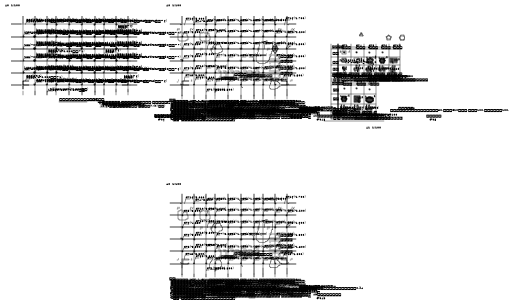room: (319, 253, 341, 278), (319, 61, 341, 86), (259, 31, 274, 42), (262, 71, 276, 82), (247, 277, 260, 288), (217, 277, 230, 288), (262, 264, 276, 274), (337, 33, 350, 43), (247, 85, 260, 95), (217, 85, 230, 95), (337, 226, 350, 235), (336, 45, 350, 50), (336, 52, 350, 57), (336, 65, 350, 70), (336, 58, 350, 63), (336, 238, 350, 242), (336, 245, 350, 249), (336, 251, 350, 255), (336, 258, 350, 262), (319, 44, 324, 52), (319, 237, 324, 245), (309, 237, 314, 245), (302, 237, 307, 245), (292, 237, 297, 245), (286, 237, 291, 245), (302, 44, 307, 52), (292, 44, 297, 52), (286, 44, 291, 52), (309, 44, 314, 52), (270, 238, 274, 245), (276, 238, 280, 245), (276, 45, 280, 52), (270, 45, 274, 52), (227, 198, 229, 200), (423, 238, 425, 240), (227, 6, 229, 8), (423, 197, 425, 198)
staircase: (490, 279, 495, 283)
wall: (336, 45, 350, 50), (336, 52, 350, 57), (336, 58, 350, 63), (336, 65, 350, 70), (336, 238, 350, 242), (336, 245, 350, 249), (336, 251, 350, 255), (336, 258, 350, 262), (351, 37, 360, 43), (223, 37, 231, 43), (15, 230, 24, 235), (351, 230, 360, 235), (144, 230, 152, 235), (223, 230, 231, 235), (319, 237, 324, 245), (309, 237, 314, 245), (302, 237, 307, 245), (292, 237, 297, 245), (286, 237, 291, 245), (319, 44, 324, 52), (309, 44, 314, 52), (302, 44, 307, 52), (292, 44, 297, 52), (286, 44, 291, 52), (270, 238, 274, 245), (276, 238, 280, 245), (270, 45, 274, 52), (276, 45, 280, 52), (222, 210, 234, 212), (462, 211, 467, 214), (467, 211, 472, 214), (435, 212, 438, 216), (238, 243, 240, 249), (238, 231, 240, 237), (238, 256, 240, 262), (238, 282, 240, 288), (238, 269, 240, 275), (255, 282, 257, 288), (238, 51, 240, 57), (238, 38, 240, 44), (238, 64, 240, 70), (222, 18, 234, 19), (462, 215, 467, 217), (467, 215, 472, 217), (328, 243, 330, 248), (316, 269, 318, 274), (328, 90, 330, 95), (238, 90, 240, 95), (238, 77, 240, 82), (316, 90, 318, 95), (225, 42, 227, 47), (353, 42, 355, 47), (255, 90, 257, 95), (485, 256, 488, 259), (480, 254, 483, 257), (480, 256, 483, 259), (435, 215, 438, 218), (430, 213, 433, 216), (430, 215, 433, 218), (342, 231, 344, 235), (223, 256, 225, 260), (328, 283, 330, 287), (316, 231, 318, 235), (328, 231, 330, 235), (316, 283, 318, 287), (223, 243, 225, 247), (225, 235, 227, 239), (353, 235, 355, 239), (492, 282, 496, 284), (316, 295, 318, 299), (328, 295, 330, 299), (359, 282, 361, 286), (223, 282, 225, 286), (359, 243, 361, 247), (342, 38, 344, 42), (328, 51, 330, 55), (316, 38, 318, 42), (328, 38, 330, 42), (316, 77, 318, 81), (485, 254, 487, 257), (47, 256, 49, 259), (254, 243, 255, 249), (344, 243, 345, 249), (357, 295, 358, 301), (454, 284, 456, 287), (457, 284, 459, 287), (494, 279, 496, 282), (489, 282, 492, 284), (512, 278, 514, 281), (512, 281, 514, 284), (506, 281, 508, 284), (506, 278, 508, 281), (254, 51, 255, 57), (223, 64, 225, 67), (223, 51, 225, 54), (226, 102, 227, 108), (357, 102, 358, 108), (316, 103, 318, 106), (328, 103, 330, 106), (359, 90, 361, 93), (223, 90, 225, 93), (359, 51, 361, 54), (266, 256, 267, 261), (283, 256, 284, 261), (283, 269, 284, 274), (300, 256, 301, 261), (300, 269, 301, 274), (344, 256, 345, 261), (315, 256, 316, 261), (266, 269, 267, 274), (226, 295, 227, 300), (330, 269, 331, 274), (256, 269, 257, 274), (254, 38, 255, 43), (283, 77, 284, 82), (283, 90, 284, 95), (300, 77, 301, 82), (300, 90, 301, 95), (344, 51, 345, 56), (344, 64, 345, 69), (266, 77, 267, 82), (330, 77, 331, 82), (256, 77, 257, 82), (224, 269, 225, 273), (254, 231, 255, 235), (254, 295, 255, 299), (283, 243, 284, 247), (283, 283, 284, 287), (300, 243, 301, 247), (300, 283, 301, 287), (316, 243, 317, 247), (343, 295, 344, 299), (283, 231, 284, 235), (300, 231, 301, 235), (266, 243, 267, 247), (266, 295, 267, 299), (283, 295, 284, 299), (300, 295, 301, 299), (266, 283, 267, 287), (359, 269, 360, 273), (359, 256, 360, 260), (266, 64, 267, 68), (283, 51, 284, 55), (283, 64, 284, 68), (300, 51, 301, 55), (300, 64, 301, 68), (344, 77, 345, 81), (316, 51, 317, 55), (315, 64, 316, 68), (266, 38, 267, 42), (283, 38, 284, 42), (300, 38, 301, 42), (266, 51, 267, 55), (282, 89, 284, 91), (282, 76, 284, 78), (282, 63, 284, 65), (282, 50, 284, 52), (344, 90, 345, 94), (266, 90, 267, 94), (266, 231, 267, 235), (344, 269, 345, 273), (152, 269, 153, 272), (489, 279, 490, 282), (344, 283, 345, 286), (254, 261, 255, 264), (224, 77, 225, 80), (254, 103, 255, 106), (343, 103, 344, 106), (266, 103, 267, 106), (283, 103, 284, 106), (300, 103, 301, 106), (359, 77, 360, 80), (359, 64, 360, 67), (254, 69, 255, 72), (30, 295, 32, 296), (30, 282, 32, 283), (30, 269, 32, 270), (30, 256, 32, 257), (30, 243, 32, 244), (46, 243, 48, 244), (108, 282, 110, 283), (108, 269, 110, 270), (108, 256, 110, 257), (108, 243, 110, 244), (15, 282, 17, 283), (120, 295, 122, 296), (30, 230, 32, 231), (120, 230, 122, 231), (108, 230, 110, 231), (108, 295, 110, 296), (15, 243, 17, 244), (120, 243, 122, 244), (120, 282, 122, 283), (282, 282, 284, 283), (282, 269, 284, 270), (282, 256, 284, 257), (282, 243, 284, 244), (282, 295, 284, 296), (282, 230, 284, 231), (15, 256, 17, 257), (15, 269, 17, 270), (238, 89, 239, 91), (238, 76, 239, 78), (238, 63, 239, 65), (238, 50, 239, 52), (254, 89, 255, 91), (254, 50, 255, 52), (266, 89, 267, 91), (266, 76, 267, 78), (266, 63, 267, 65), (266, 50, 267, 52), (299, 89, 300, 91), (299, 76, 300, 78), (299, 63, 300, 65), (299, 50, 300, 52), (316, 89, 317, 91), (316, 76, 317, 78), (316, 63, 317, 65), (316, 50, 317, 52), (328, 89, 329, 91), (328, 50, 329, 52), (344, 89, 345, 91), (344, 76, 345, 78), (344, 63, 345, 65), (344, 50, 345, 52), (282, 102, 284, 103), (282, 38, 284, 39), (223, 63, 224, 65), (223, 76, 224, 78), (359, 63, 360, 65), (359, 76, 360, 78), (46, 282, 47, 283), (58, 282, 59, 283), (58, 269, 59, 270), (58, 256, 59, 257), (58, 243, 59, 244), (136, 282, 137, 283), (136, 269, 137, 270), (136, 256, 137, 257), (136, 243, 137, 244), (151, 282, 152, 283), (151, 243, 152, 244), (46, 295, 47, 296), (136, 295, 137, 296), (46, 230, 47, 231), (58, 230, 59, 231), (136, 230, 137, 231), (75, 230, 76, 231), (92, 230, 93, 231), (58, 295, 59, 296), (75, 295, 76, 296), (92, 295, 93, 296), (75, 282, 76, 283), (92, 282, 93, 283), (75, 269, 76, 270), (92, 269, 93, 270), (92, 256, 93, 257), (75, 256, 76, 257), (75, 243, 76, 244), (92, 243, 93, 244), (238, 295, 239, 296), (238, 282, 239, 283), (238, 269, 239, 270), (238, 256, 239, 257), (238, 243, 239, 244), (254, 282, 255, 283), (254, 243, 255, 244), (266, 282, 267, 283), (266, 269, 267, 270), (266, 256, 267, 257), (266, 243, 267, 244), (299, 282, 300, 283), (299, 269, 300, 270), (299, 256, 300, 257), (299, 243, 300, 244), (316, 282, 317, 283), (316, 269, 317, 270), (316, 256, 317, 257), (316, 243, 317, 244), (328, 282, 329, 283), (328, 243, 329, 244), (344, 282, 345, 283), (344, 256, 345, 257), (344, 243, 345, 244), (223, 282, 224, 283), (223, 243, 224, 244), (359, 282, 360, 283), (359, 243, 360, 244), (254, 295, 255, 296), (266, 295, 267, 296), (299, 295, 300, 296), (316, 295, 317, 296), (328, 295, 329, 296), (344, 295, 345, 296), (238, 230, 239, 231), (254, 230, 255, 231), (299, 230, 300, 231), (316, 230, 317, 231), (344, 230, 345, 231), (328, 230, 329, 231), (151, 256, 152, 257), (151, 269, 152, 270), (223, 256, 224, 257), (223, 269, 224, 270), (359, 256, 360, 257), (359, 269, 360, 270), (58, 222, 59, 223), (238, 102, 239, 103), (223, 89, 224, 90), (223, 51, 224, 52), (359, 89, 360, 90), (359, 51, 360, 52), (254, 102, 255, 103), (266, 102, 267, 103), (299, 102, 300, 103), (316, 102, 317, 103), (328, 102, 329, 103), (344, 102, 345, 103), (238, 38, 239, 39), (254, 38, 255, 39), (266, 38, 267, 39), (299, 38, 300, 39), (316, 38, 317, 39), (344, 38, 345, 39), (328, 38, 329, 39), (266, 230, 267, 231), (344, 269, 345, 270), (47, 222, 47, 223)
window: (340, 269, 344, 274), (340, 264, 344, 269), (345, 264, 348, 269), (345, 269, 348, 274), (466, 272, 469, 273), (449, 272, 452, 273), (482, 272, 485, 273), (466, 233, 469, 234), (431, 272, 434, 273), (468, 240, 470, 241), (465, 270, 467, 271), (452, 250, 454, 251), (460, 240, 462, 241), (449, 270, 451, 271), (444, 240, 446, 241), (489, 240, 491, 241), (482, 270, 484, 271), (477, 240, 479, 241), (432, 233, 434, 234), (432, 231, 434, 232), (450, 233, 452, 234), (450, 231, 452, 232), (431, 198, 433, 199), (428, 198, 430, 199), (452, 199, 454, 200), (444, 198, 446, 199), (456, 216, 458, 217), (466, 231, 468, 232), (493, 240, 495, 241), (500, 240, 502, 241), (498, 272, 500, 273), (497, 270, 499, 271), (430, 270, 432, 271), (428, 240, 430, 241), (435, 240, 437, 241), (238, 63, 239, 65), (238, 76, 239, 78), (238, 256, 239, 257), (238, 269, 239, 270), (449, 247, 450, 248), (473, 240, 474, 241), (469, 240, 470, 241), (465, 240, 466, 241), (464, 240, 465, 241), (447, 240, 448, 241), (448, 240, 449, 241), (452, 240, 453, 241), (457, 240, 458, 241), (456, 240, 457, 241), (456, 257, 457, 258), (455, 257, 456, 258), (450, 253, 451, 254), (453, 250, 454, 251), (450, 244, 451, 245), (448, 243, 449, 244), (464, 247, 465, 248), (451, 247, 452, 248), (467, 247, 468, 248), (480, 240, 481, 241), (481, 240, 482, 241), (485, 240, 486, 241), (490, 240, 491, 241), (488, 259, 489, 260), (489, 259, 490, 260), (479, 258, 480, 259), (478, 258, 479, 259), (478, 245, 479, 246), (485, 244, 486, 245), (480, 244, 481, 245), (479, 249, 480, 250), (479, 247, 480, 248), (429, 217, 430, 218), (428, 203, 429, 204), (429, 203, 430, 204), (437, 202, 438, 203), (435, 202, 436, 203), (432, 202, 433, 203), (429, 207, 430, 208), (429, 205, 430, 206), (436, 199, 437, 200), (440, 199, 441, 200), (448, 198, 449, 199), (457, 199, 458, 200), (457, 216, 458, 217), (452, 211, 453, 212), (446, 203, 447, 204), (454, 202, 455, 203), (449, 202, 450, 203), (451, 202, 452, 203), (472, 217, 473, 218), (461, 203, 462, 204), (468, 202, 469, 203), (463, 202, 464, 203), (462, 207, 463, 208), (462, 205, 463, 206), (461, 205, 462, 206), (464, 198, 465, 199), (468, 198, 469, 199), (472, 198, 473, 199), (461, 198, 462, 199), (497, 240, 498, 241), (501, 240, 502, 241), (504, 240, 505, 241), (496, 247, 497, 248), (499, 243, 500, 244), (496, 243, 497, 244), (495, 243, 496, 244), (497, 243, 498, 244), (505, 257, 506, 258), (504, 257, 505, 258), (496, 253, 497, 254), (499, 249, 500, 250), (439, 240, 440, 241), (435, 240, 436, 241), (432, 240, 433, 241), (431, 240, 432, 241), (262, 11, 263, 12), (292, 11, 293, 12), (313, 11, 314, 12), (338, 11, 339, 12), (449, 248, 450, 248), (452, 244, 453, 244), (453, 243, 453, 244), (453, 244, 453, 244), (448, 244, 448, 244), (448, 244, 449, 244), (464, 248, 465, 248), (479, 246, 479, 246), (487, 244, 487, 245), (482, 244, 482, 245), (479, 248, 480, 248), (431, 202, 431, 203), (429, 207, 430, 207), (434, 202, 434, 203), (439, 218, 440, 218), (432, 199, 433, 199), (436, 199, 437, 199), (440, 199, 441, 199), (448, 199, 449, 199), (453, 199, 454, 199), (457, 199, 458, 199), (453, 202, 453, 203), (448, 202, 448, 203), (447, 207, 447, 208), (447, 207, 448, 207), (446, 205, 447, 205), (473, 217, 473, 218), (461, 217, 462, 217), (470, 202, 470, 203), (465, 202, 465, 203), (464, 199, 465, 199), (468, 199, 469, 199), (472, 199, 473, 199), (262, 204, 263, 204), (292, 204, 293, 204), (313, 204, 314, 204), (338, 204, 339, 204), (496, 247, 497, 247), (500, 243, 501, 243), (495, 243, 496, 243), (499, 247, 499, 247), (498, 243, 498, 243)
